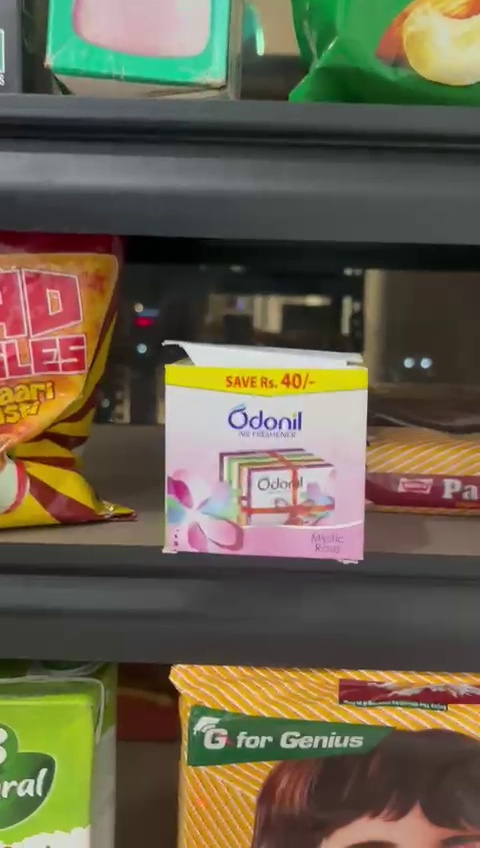Odonil: (156, 339, 376, 564)
